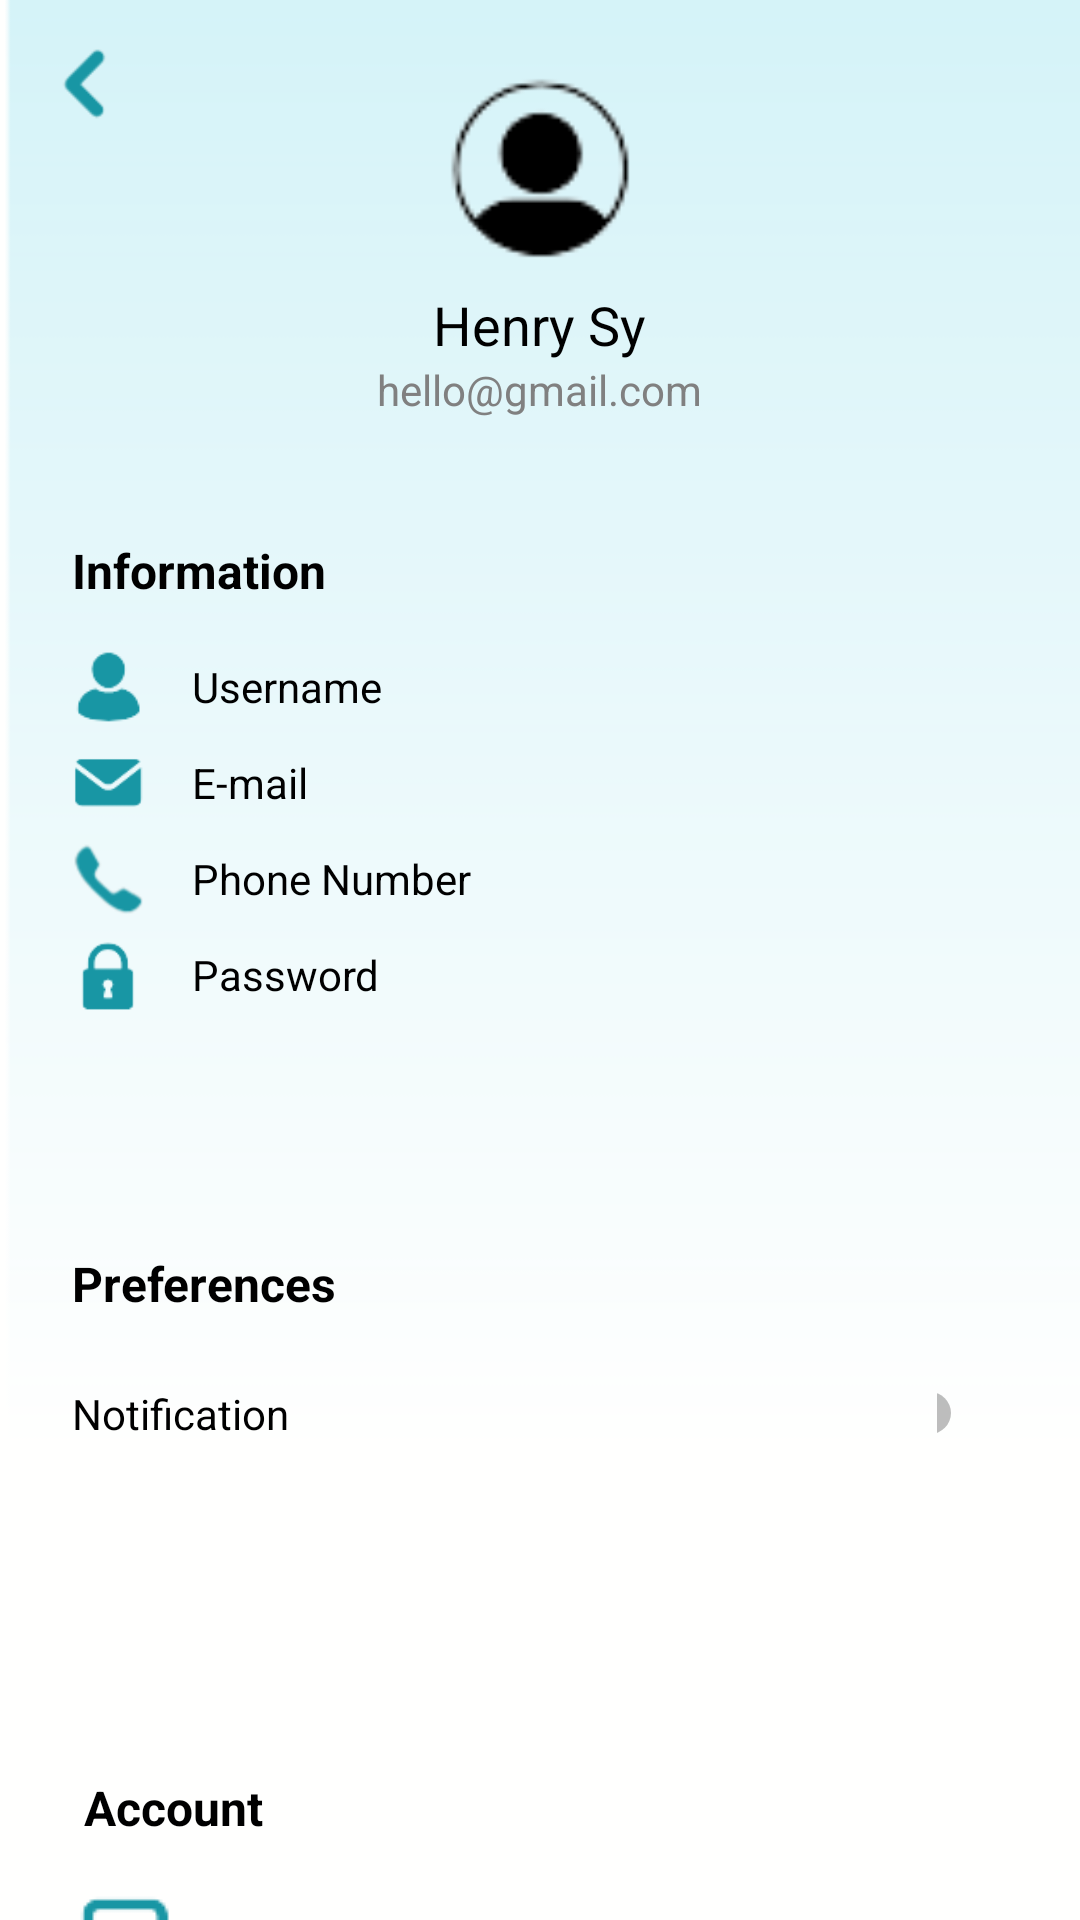

Icons on this 1080 × 1920 Android screen, each with the point to tap as (x,y):
Back Button: (84,83)
Profile Picture: (540,168)
